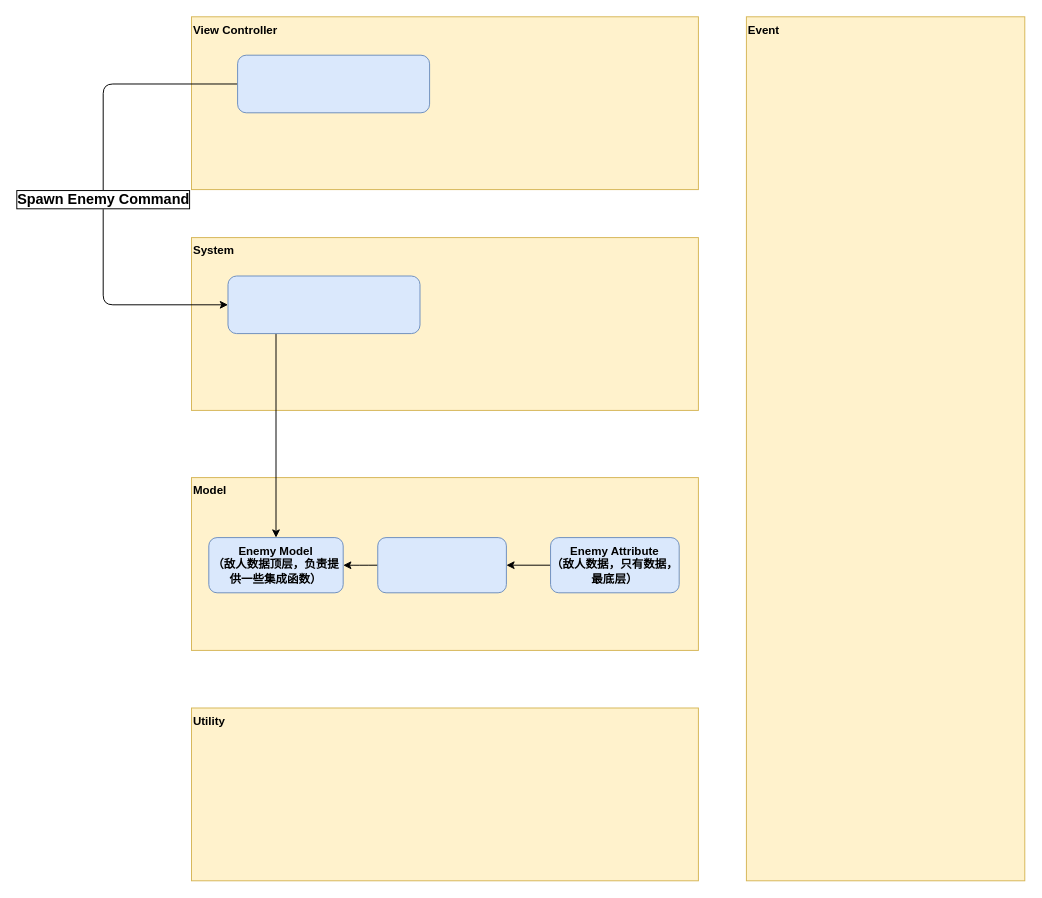
Image size: 1042x898. Some labels were removed from this diagram. The shapes that lost their labels are listed below. From the top down, each one's box as (x1, y1, x2, y2) in pixels, then its label:
(237, 54, 430, 113): Enemy Spawn Controller （敌人生成控制器）
(227, 275, 420, 334): Battle System （战斗系统）
(377, 537, 506, 593): Enemy Data （存放敌人组件及数据，加入各类游戏组件，便于访问使用）
